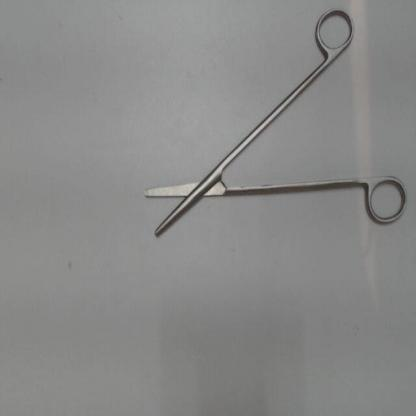9 Metzenbaum Scissors: (138, 3, 414, 245)
